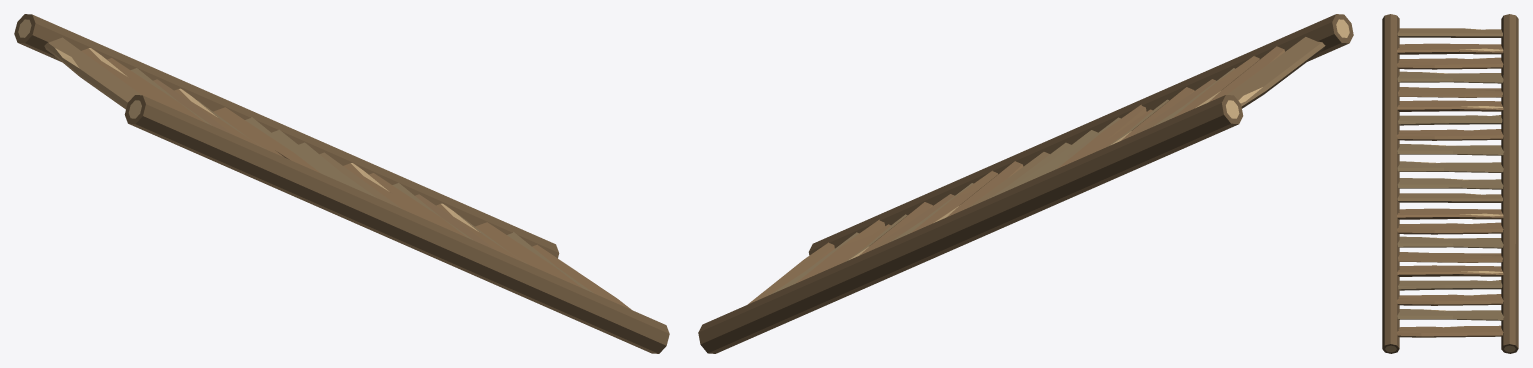
File: rpgpp_ag_wall_platform_stairs_02a_4m.fbx
The picture shows the model from 3 angles, left to right: view 1: azimuth 30°, elevation 25°; view 2: azimuth 150°, elevation 25°; view 3: azimuth 270°, elevation 25°; orthographic projection. The views are drawn at different scales.
Parts seen in each view (by area): view 1: rpgpp_ag_wall_platform_stairs_02a_4m; view 2: rpgpp_ag_wall_platform_stairs_02a_4m; view 3: rpgpp_ag_wall_platform_stairs_02a_4m.
Part boxes in pixels (x1,y1,x2,y2): rpgpp_ag_wall_platform_stairs_02a_4m: [14, 14, 669, 353]; rpgpp_ag_wall_platform_stairs_02a_4m: [698, 14, 1353, 353]; rpgpp_ag_wall_platform_stairs_02a_4m: [1382, 14, 1518, 353].
Size of the model in its own units: 6.18 by 4.21 by 2.52.
